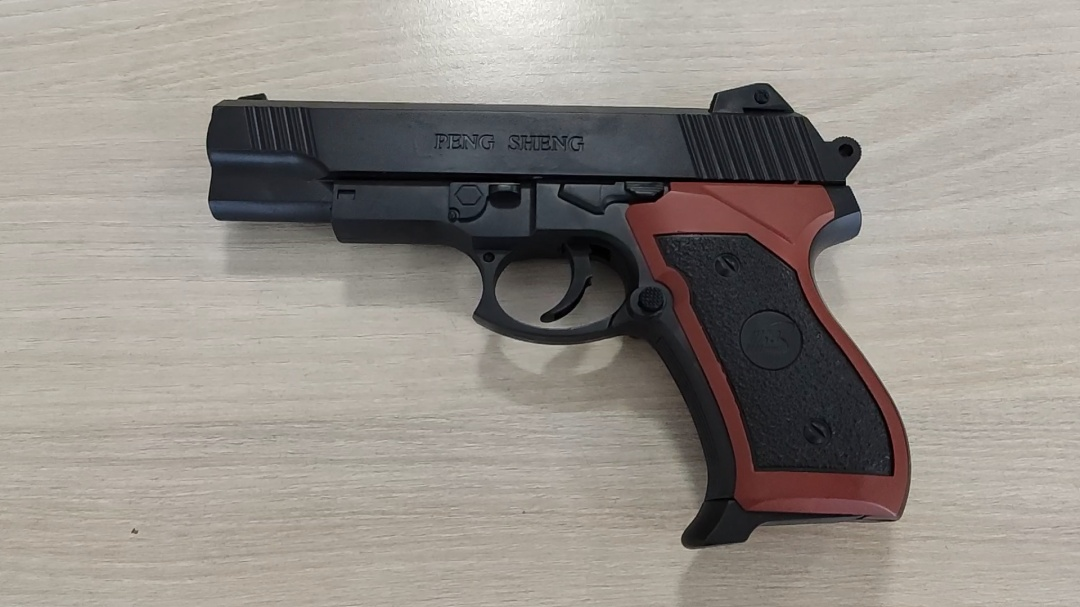gun: (503, 177, 614, 335)
